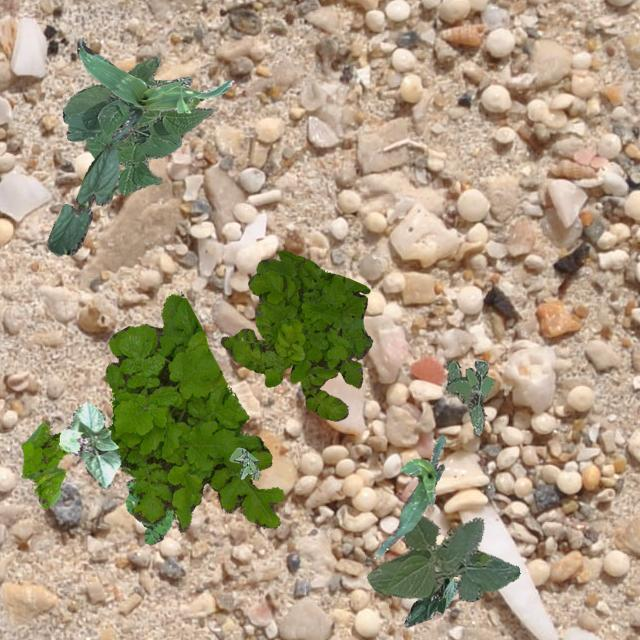crop: (61, 58, 212, 194), (76, 38, 232, 142), (366, 514, 520, 600), (376, 434, 444, 556), (46, 142, 118, 254), (58, 400, 120, 488), (402, 576, 458, 626)
weed: (104, 294, 284, 532), (220, 250, 372, 420), (20, 418, 66, 508), (444, 358, 492, 434), (124, 476, 174, 544), (228, 448, 260, 480)
